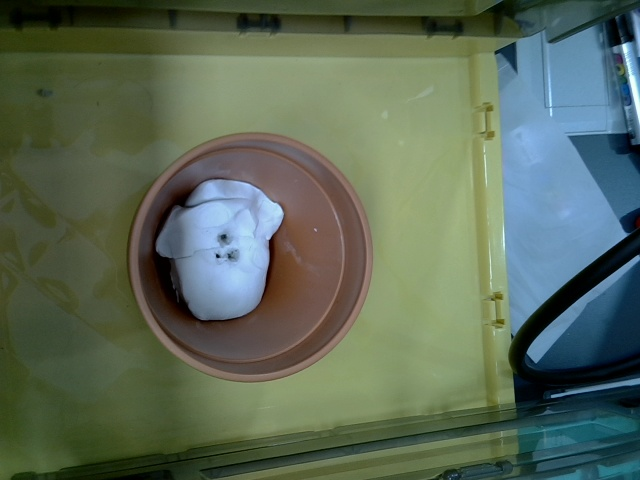화분: (127, 130, 373, 383)
